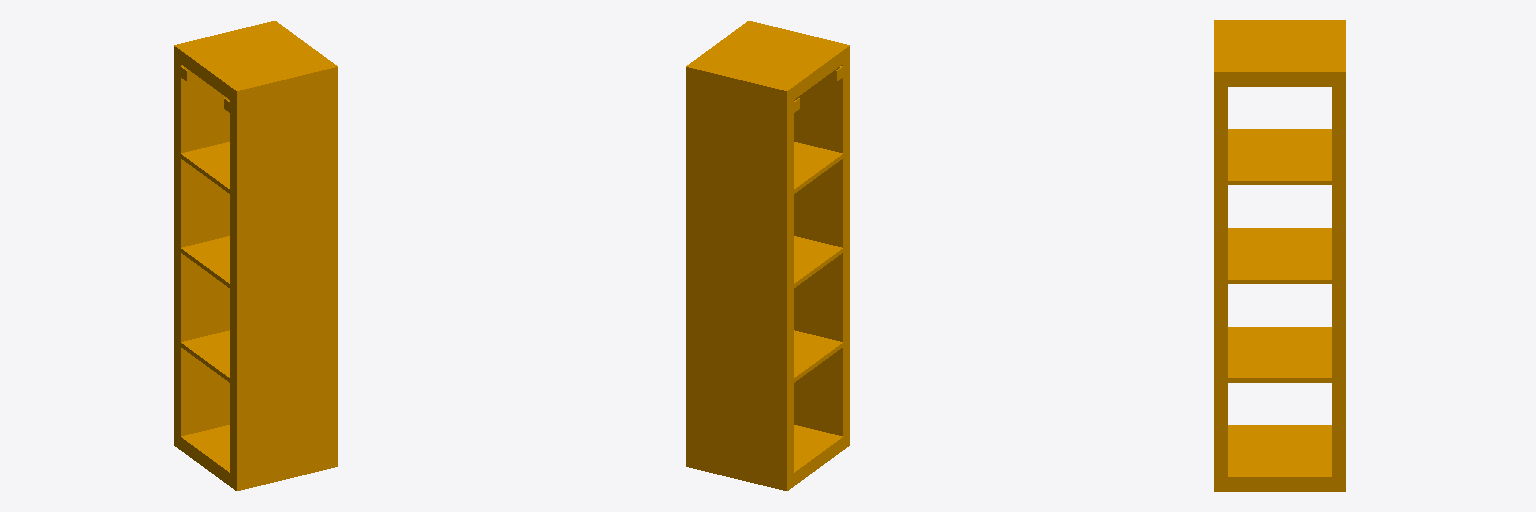
URDF robot description (2mH8Jfdn):
<?xml version='1.0' encoding='us-ascii'?>
<robot name="2mH8Jfdn">
   <link name="base_link">
      <visual>
         <origin xyz="0.0 0.0 0.0" />
         <geometry>
            <mesh filename="shape\visual\shelf-qpylqf-0.obj" />
         </geometry>
      </visual>
      <collision>
         <origin xyz="0.0 0.0 0.0" />
         <geometry>
            <mesh filename="shape\collision\shelf-qpylqf-0.obj" />
         </geometry>
      </collision>
   </link>
</robot>

--- What the picture shows (computed from the rendered views, not written in the file) ---
Views: 3 orthographic renders of the robot side by side, from view 1: azimuth 30°, elevation 25°; view 2: azimuth 150°, elevation 25°; view 3: azimuth 270°, elevation 25°.
Model 2mH8Jfdn with 1 links and 0 joints (none), rooted at base_link, posed every joint at zero.
Links seen in each view (by area): view 1: base_link; view 2: base_link; view 3: base_link.
Link boxes in pixels (x1=…): base_link: x1=174, y1=21, x2=337, y2=490; base_link: x1=686, y1=21, x2=849, y2=490; base_link: x1=1214, y1=20, x2=1345, y2=491.
Bounding box of the posed robot: 0.39 × 0.42 × 1.47 m (x, y, z).
Meshes: 1 distinct files referenced, 1 mesh visuals loaded (1 OBJ).